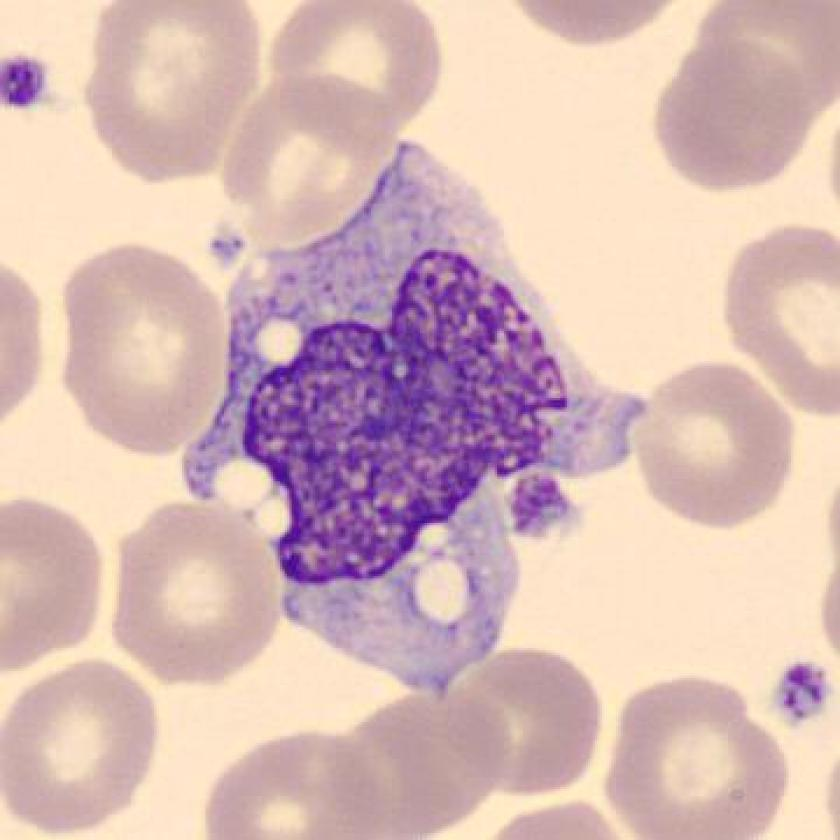monocyte: (169, 129, 668, 719)
